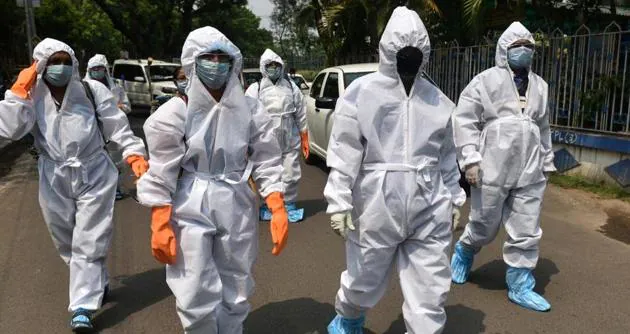Coverall: (342, 80, 451, 329), (161, 91, 254, 332), (32, 83, 112, 309), (467, 70, 554, 265)
Gloves: (147, 202, 180, 266), (264, 190, 293, 255), (11, 62, 42, 100), (331, 206, 356, 239), (125, 151, 149, 178)
with_mask: (198, 53, 233, 91), (44, 52, 73, 88)
